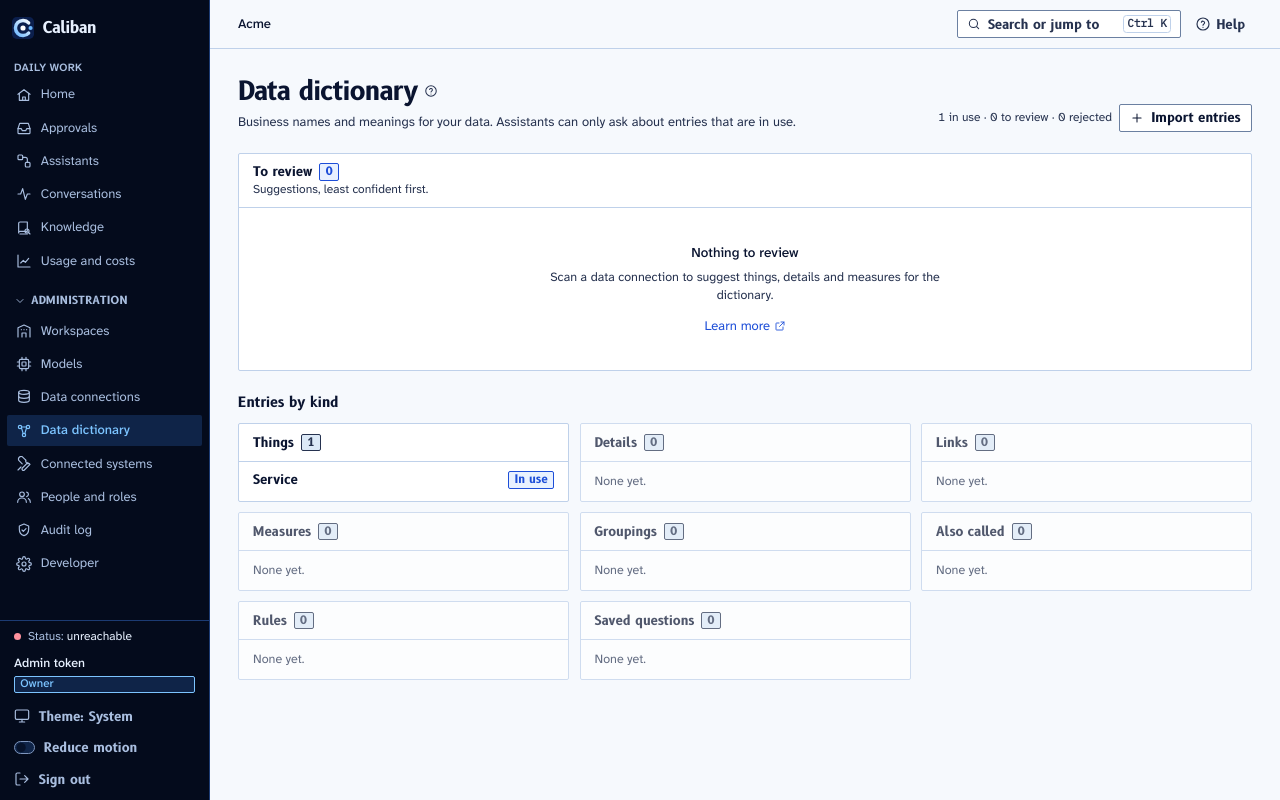
OntologyPage › proposes over an approved element only when the breaking change is acknowledged
Step 1. Click the button "Import entries" → (1185, 118), box [1119, 104, 1252, 132]
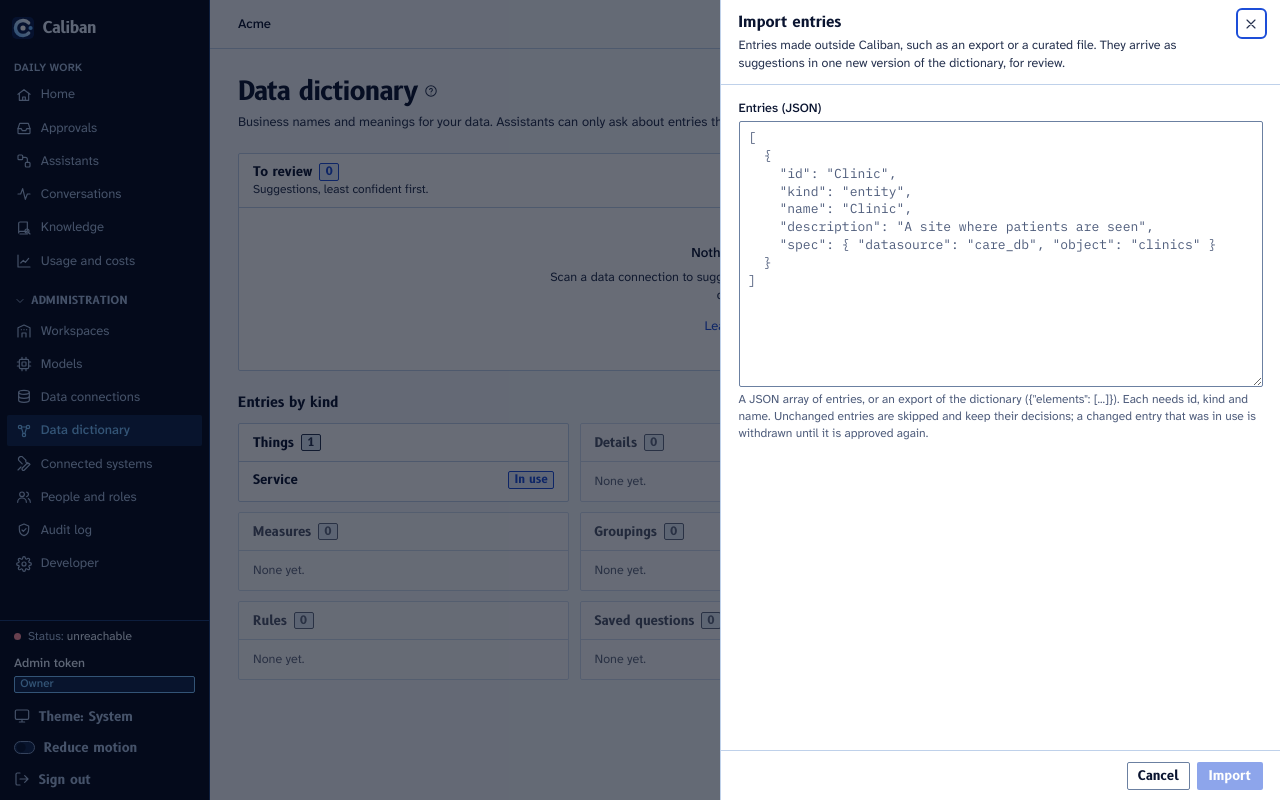
Step 2. Click the text box labelled "Entries (JSON)" → (1000, 254), box [738, 121, 1262, 387]
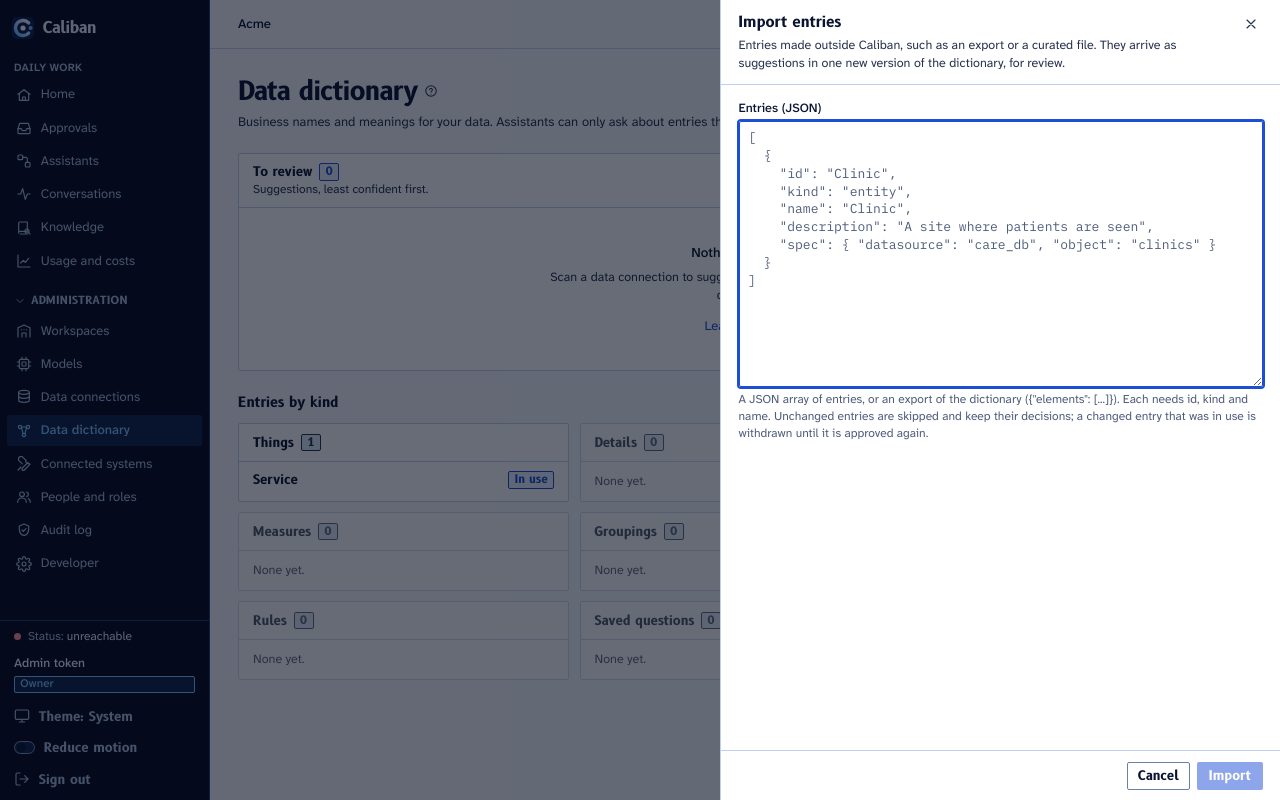
Step 3. Type keys "[{\"id\": \"Service\", \"kind\": \"entity\", \"name\": \"Service\", \"description\": \"Changed\"}]"
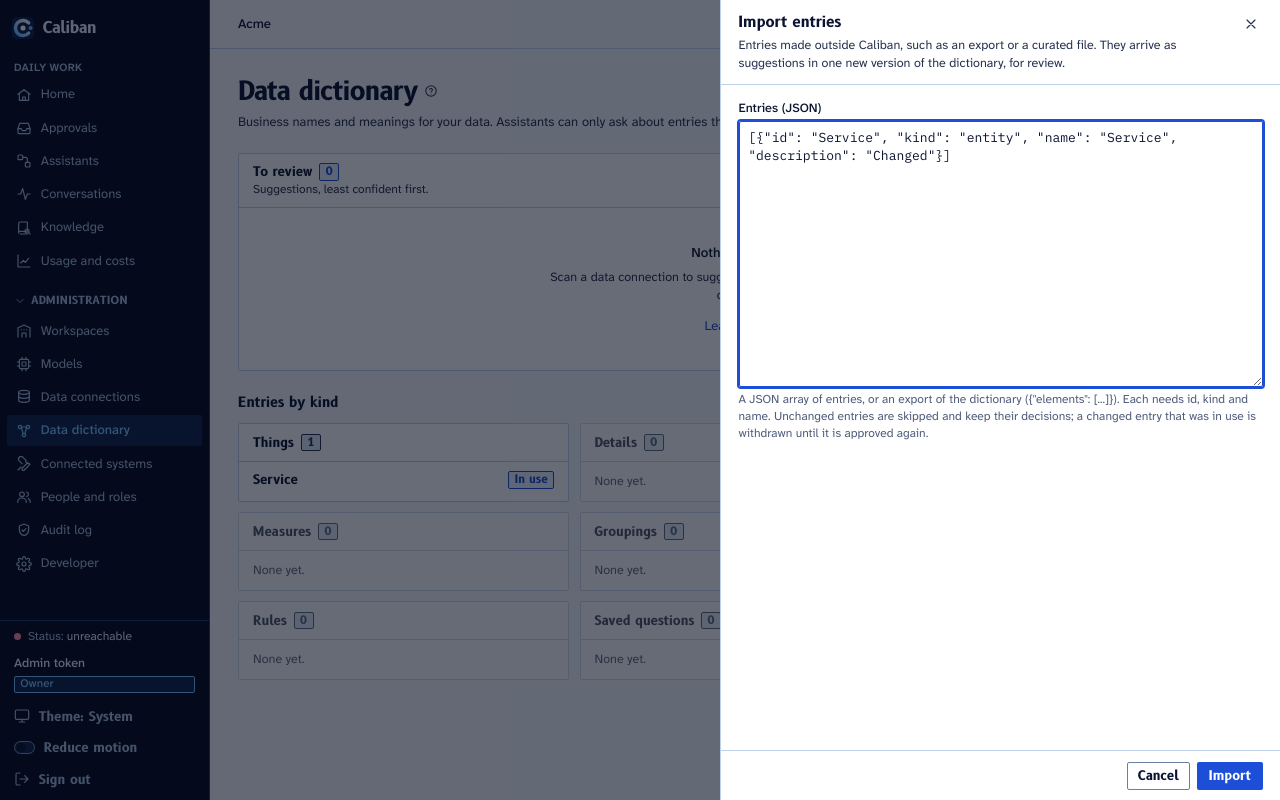
Step 4. Click the button "Import" → (1230, 776), box [1197, 762, 1262, 790]
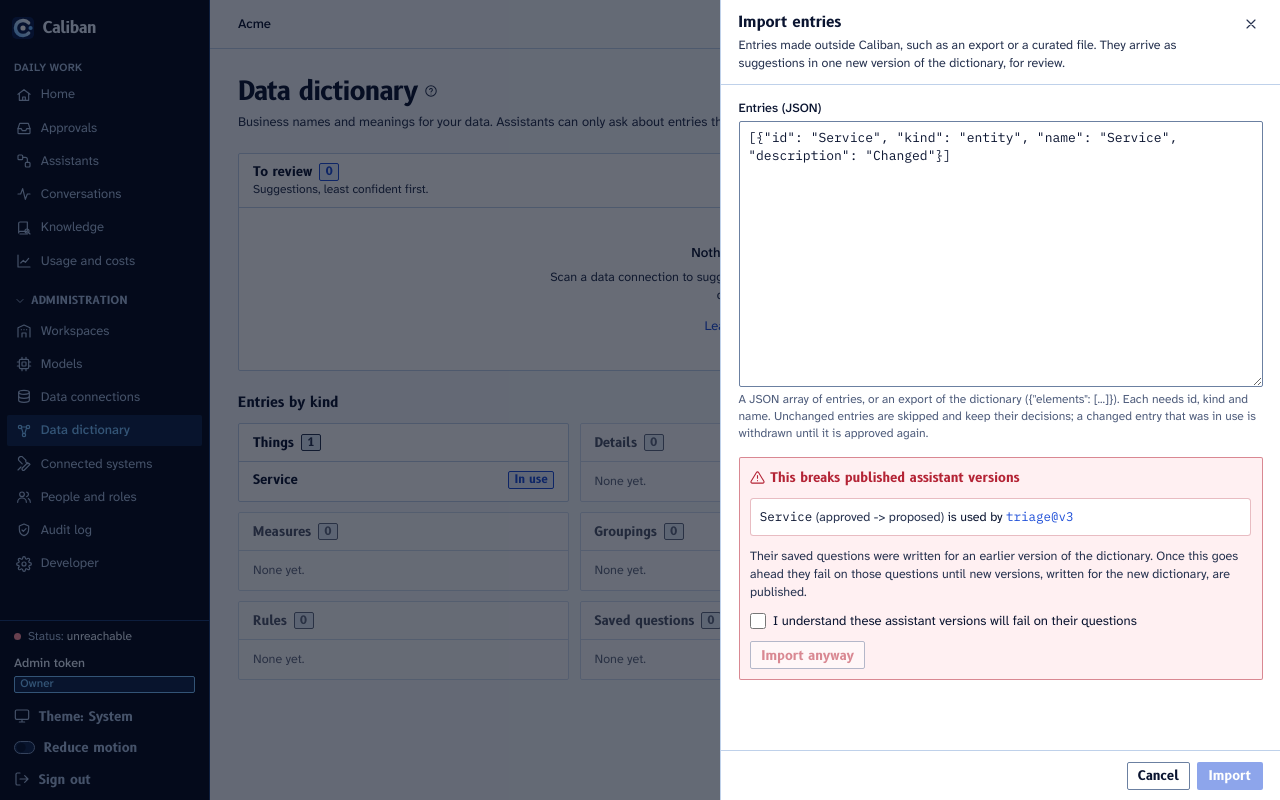
Step 5. Click the checkbox → (758, 621), box [750, 613, 766, 629]
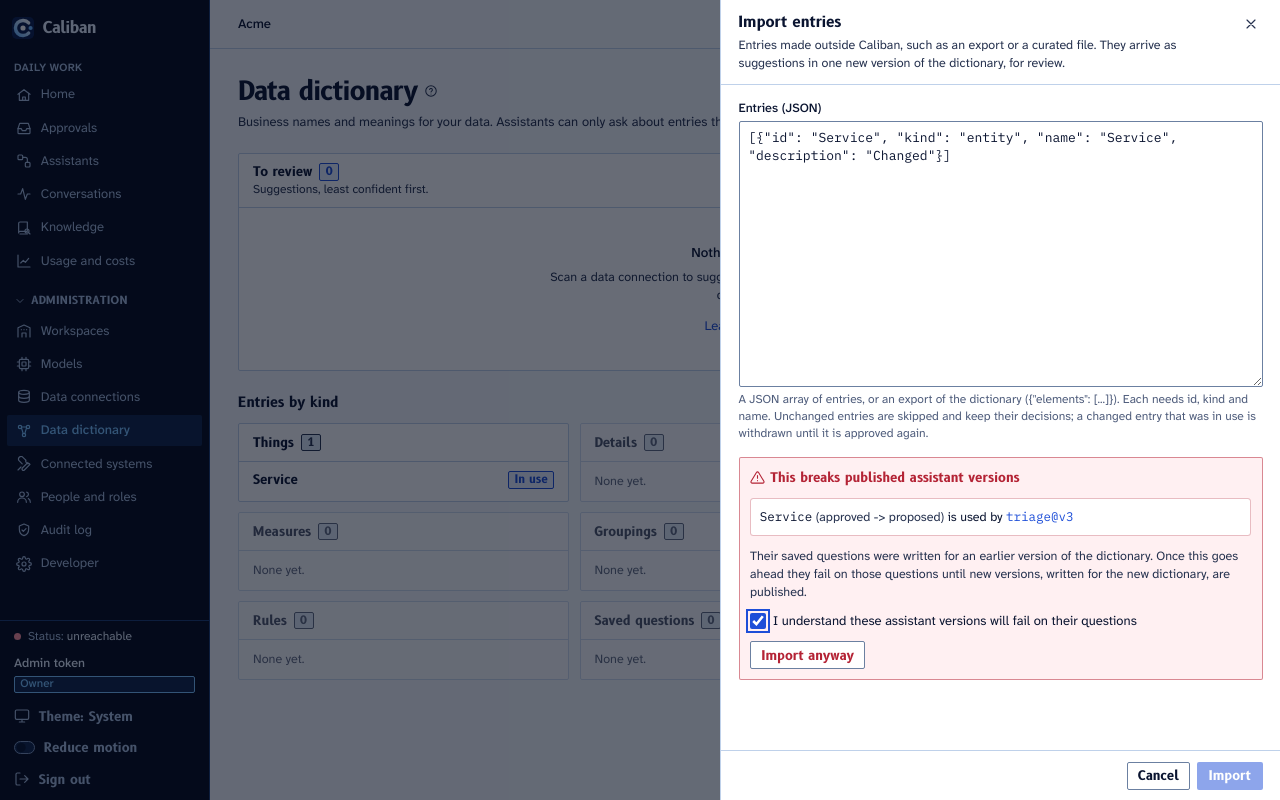
Step 6. Click the button "Import anyway" → (808, 655), box [750, 641, 865, 669]
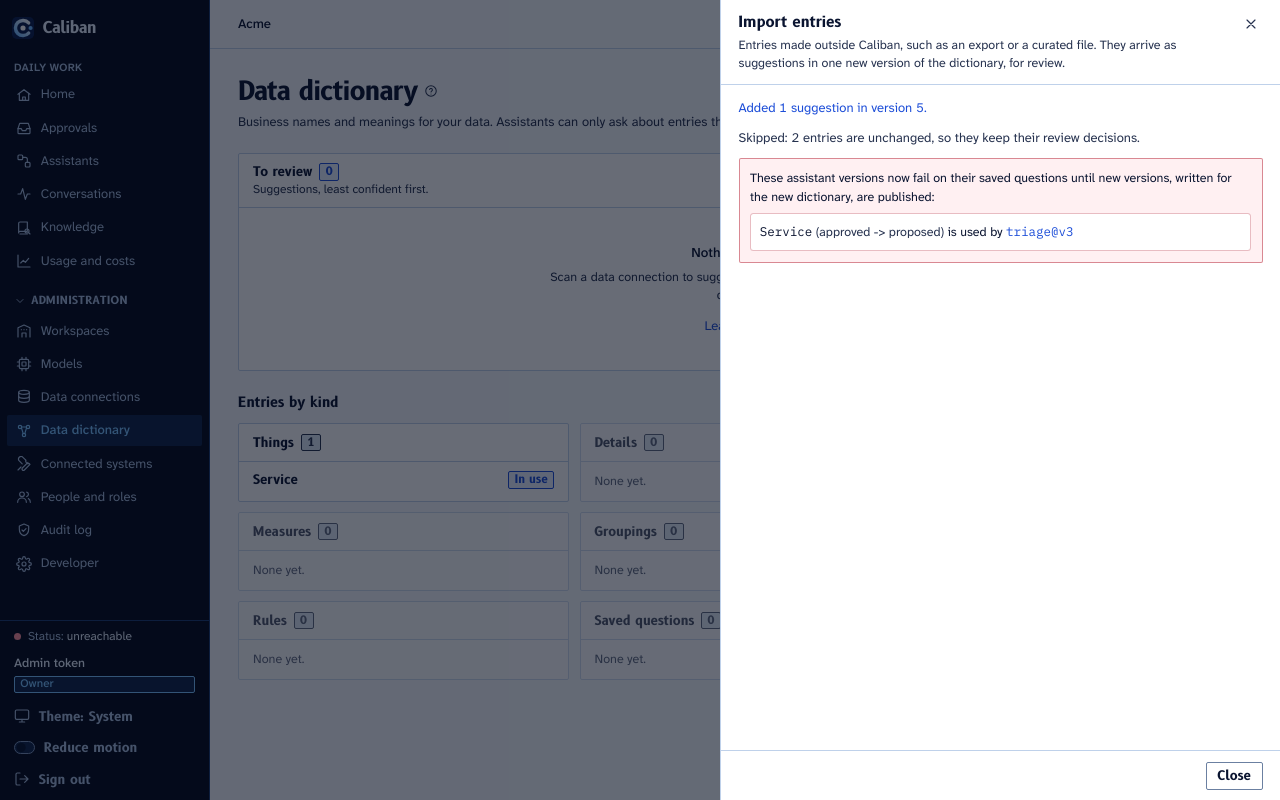
Expected: the message reads "Added 1 suggestion in version 5.", [738, 99, 927, 116]
Expected: the dialog "Import entries" shows "Skipped: 2 entries are unchanged", [720, 0, 1279, 799]
